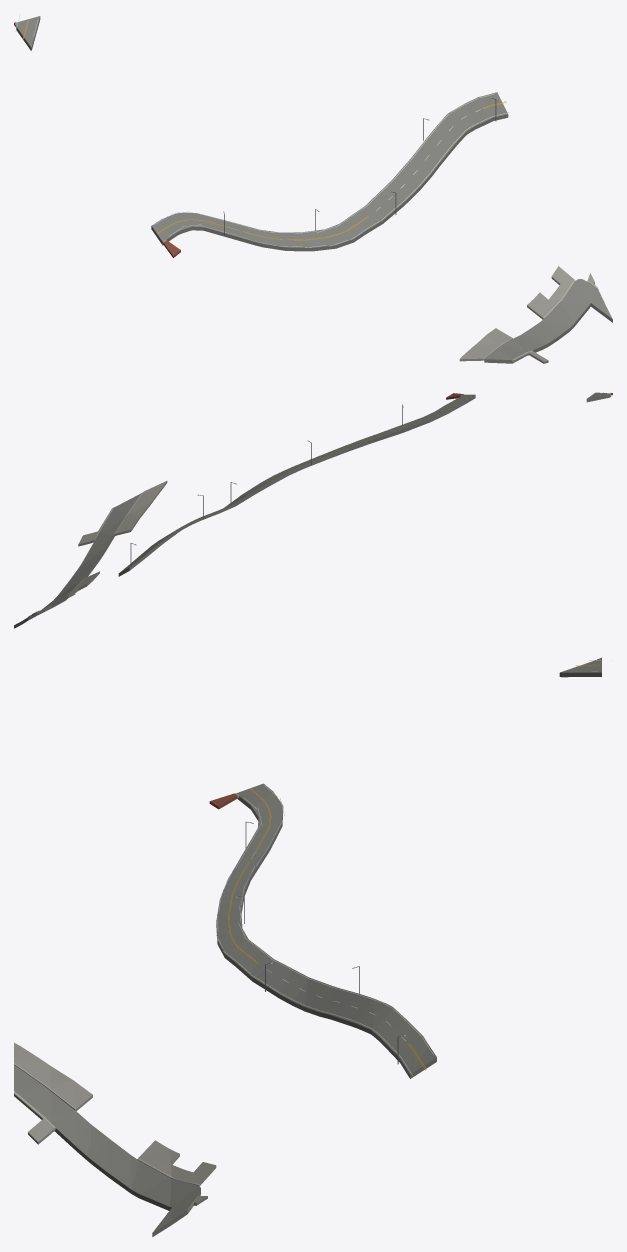
3 renders of one model, top to bottom at view 1: azimuth 30°, elevation 25°; view 2: azimuth 210°, elevation 25°; view 3: azimuth 270°, elevation 25°, orthographic. The views are drawn at different scales.
Bounding box in the file's own units: 150 × 91.24 × 148.
